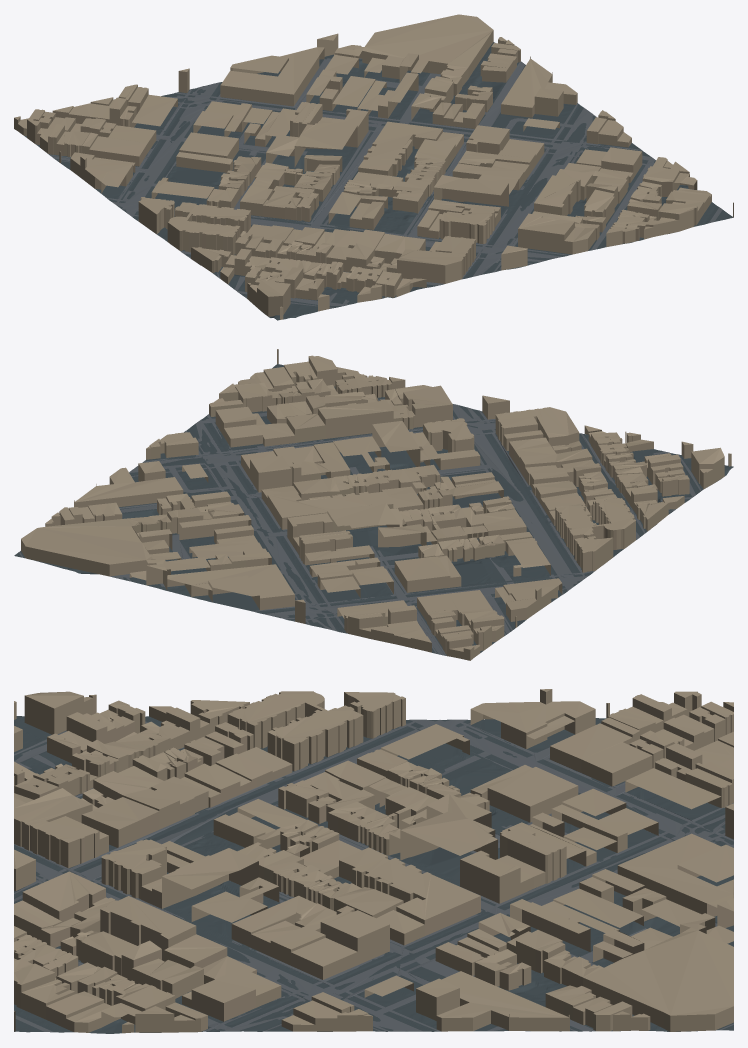
The model's file is epsg26910-1437-10888.lod0.glb.
The picture shows the model from 3 angles, top to bottom: view 1: azimuth 30°, elevation 25°; view 2: azimuth 150°, elevation 25°; view 3: azimuth 270°, elevation 25°; orthographic projection. The views are drawn at different scales.
Visible parts, largest first — view 1: epsg26910-1437-10888-lod0; view 2: epsg26910-1437-10888-lod0; view 3: epsg26910-1437-10888-lod0.
Boxes of the visible parts, left/top/right/bottom form: epsg26910-1437-10888-lod0: left=14, top=14, right=733, bottom=320; epsg26910-1437-10888-lod0: left=14, top=349, right=733, bottom=660; epsg26910-1437-10888-lod0: left=14, top=689, right=733, bottom=1033.
Size of the model in its own units: 384 by 24.37 by 384.
